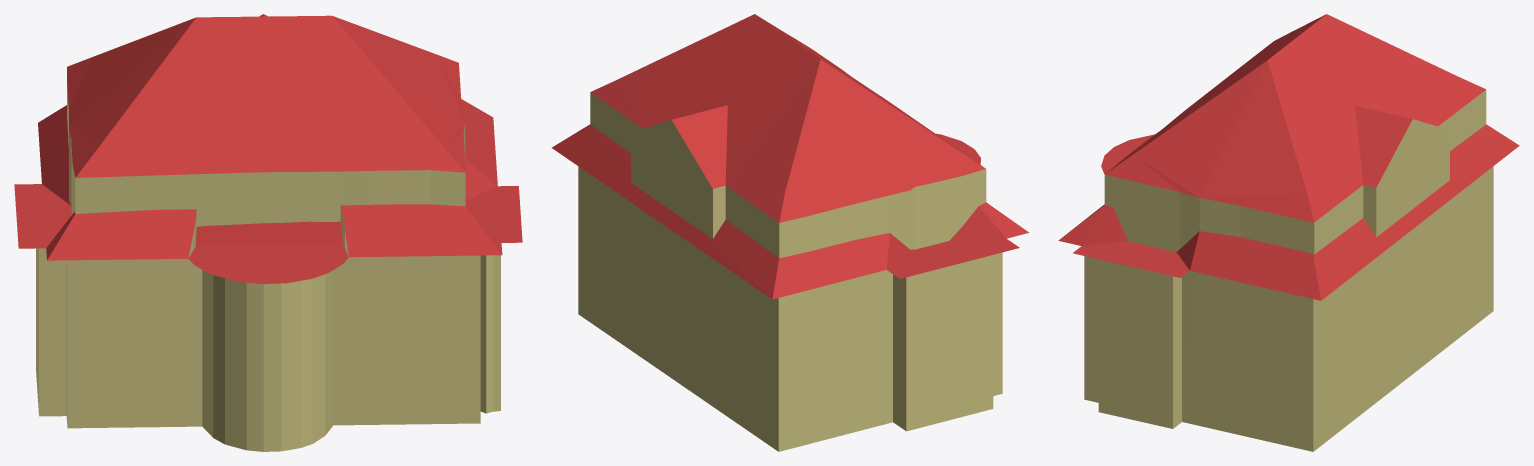
3 views of the same model, side by side, from view 1: azimuth 30°, elevation 25°; view 2: azimuth 150°, elevation 25°; view 3: azimuth 270°, elevation 25° (orthographic). The views are drawn at different scales.
Visible parts, largest first — view 1: group_8, group_4, group_3, group_5, group_7; view 2: group_8, group_4, group_5, group_3, group_7; view 3: group_8, group_4, group_5, group_3, group_7.
Part boxes in pixels (x1=…): group_8: x1=36, y1=221, x2=500, y2=451; group_4: x1=67, y1=14, x2=465, y2=177; group_3: x1=14, y1=99, x2=522, y2=283; group_5: x1=67, y1=82, x2=465, y2=226; group_7: x1=14, y1=105, x2=520, y2=281; group_8: x1=578, y1=166, x2=1002, y2=451; group_4: x1=590, y1=14, x2=985, y2=222; group_5: x1=590, y1=92, x2=986, y2=258; group_3: x1=551, y1=124, x2=1028, y2=299; group_7: x1=552, y1=135, x2=1028, y2=299; group_8: x1=1084, y1=166, x2=1493, y2=451; group_4: x1=1105, y1=14, x2=1485, y2=222; group_5: x1=1104, y1=90, x2=1486, y2=254; group_3: x1=1058, y1=124, x2=1492, y2=300; group_7: x1=1061, y1=128, x2=1519, y2=300.
Bounding box in the file's own units: 20.19 × 17.95 × 13.62.
